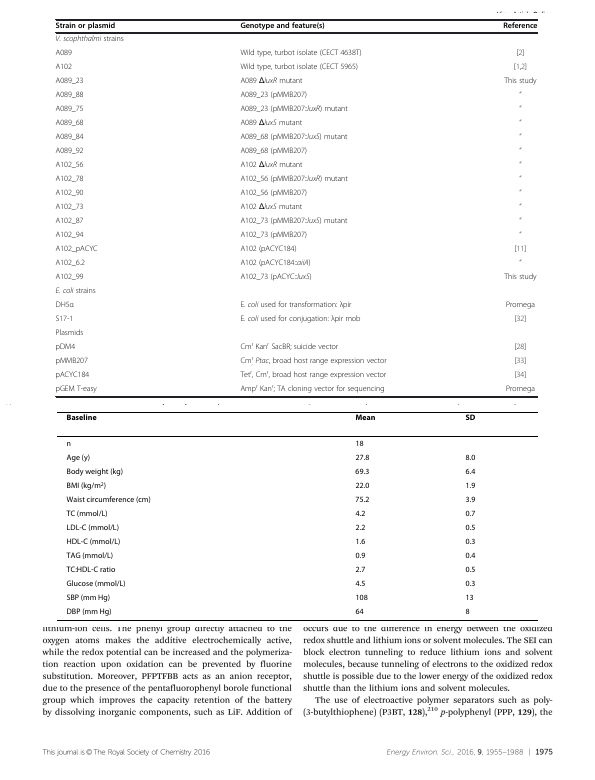borderless: (54, 18, 537, 396), (56, 410, 538, 620)
cell: (239, 355, 387, 367), (239, 369, 387, 381), (239, 383, 385, 395), (239, 49, 362, 59), (239, 315, 361, 325), (239, 63, 359, 73), (239, 341, 339, 353), (239, 301, 352, 311), (239, 105, 349, 115), (239, 175, 349, 185), (239, 133, 348, 143), (239, 217, 348, 227), (66, 495, 152, 505), (239, 22, 326, 31), (239, 273, 312, 283), (239, 259, 311, 269), (55, 35, 125, 45), (239, 91, 308, 101), (239, 147, 308, 157), (239, 189, 308, 199), (239, 231, 308, 241), (239, 77, 303, 87), (239, 119, 303, 129), (239, 161, 303, 171), (239, 203, 303, 213), (66, 579, 127, 589), (239, 245, 297, 255), (66, 467, 124, 477), (66, 537, 121, 547), (55, 22, 116, 31), (66, 523, 120, 533), (66, 565, 116, 575), (66, 551, 114, 561), (66, 607, 112, 617), (66, 593, 111, 603), (55, 245, 99, 255), (55, 385, 98, 395), (55, 287, 97, 297), (66, 509, 108, 519), (66, 481, 107, 491), (55, 371, 90, 381), (503, 77, 537, 87), (503, 273, 537, 283), (55, 357, 89, 367), (502, 22, 538, 31), (55, 259, 86, 269), (505, 301, 536, 311), (505, 385, 536, 395), (55, 77, 84, 87), (55, 91, 84, 101), (55, 105, 84, 115), (55, 119, 84, 129), (55, 133, 84, 143), (55, 147, 84, 157), (55, 161, 84, 171), (55, 175, 84, 185), (55, 189, 84, 199), (55, 203, 84, 213), (55, 217, 84, 227), (55, 231, 84, 241), (55, 273, 84, 283), (55, 329, 84, 339), (66, 413, 98, 421), (66, 453, 91, 463), (55, 343, 76, 353), (55, 301, 75, 311), (55, 315, 74, 325), (55, 49, 73, 59), (55, 63, 73, 73), (354, 413, 376, 421), (354, 453, 370, 463), (354, 467, 370, 477), (354, 481, 370, 491), (354, 495, 370, 505), (513, 63, 528, 73), (354, 593, 369, 603), (513, 245, 527, 255), (513, 315, 527, 325), (513, 343, 527, 353), (513, 357, 527, 367), (513, 371, 527, 381), (464, 453, 476, 463), (464, 467, 476, 477), (464, 481, 476, 491), (464, 495, 476, 505), (354, 509, 366, 519), (464, 509, 476, 519), (354, 523, 366, 533), (464, 523, 476, 533), (354, 537, 366, 547), (464, 537, 476, 547), (354, 551, 366, 561), (464, 551, 476, 561), (354, 565, 366, 575), (464, 565, 476, 575), (354, 579, 366, 589), (354, 439, 365, 449), (465, 579, 476, 589), (464, 593, 475, 603), (354, 607, 365, 617), (515, 49, 525, 59), (464, 413, 476, 421), (464, 607, 471, 617), (66, 439, 72, 449), (518, 91, 522, 99), (518, 105, 522, 113), (518, 119, 522, 127), (518, 133, 522, 141), (518, 147, 522, 155), (518, 161, 522, 169), (518, 175, 522, 183), (518, 189, 522, 197), (518, 203, 522, 211), (518, 217, 522, 225), (518, 231, 522, 239), (518, 259, 522, 267)
